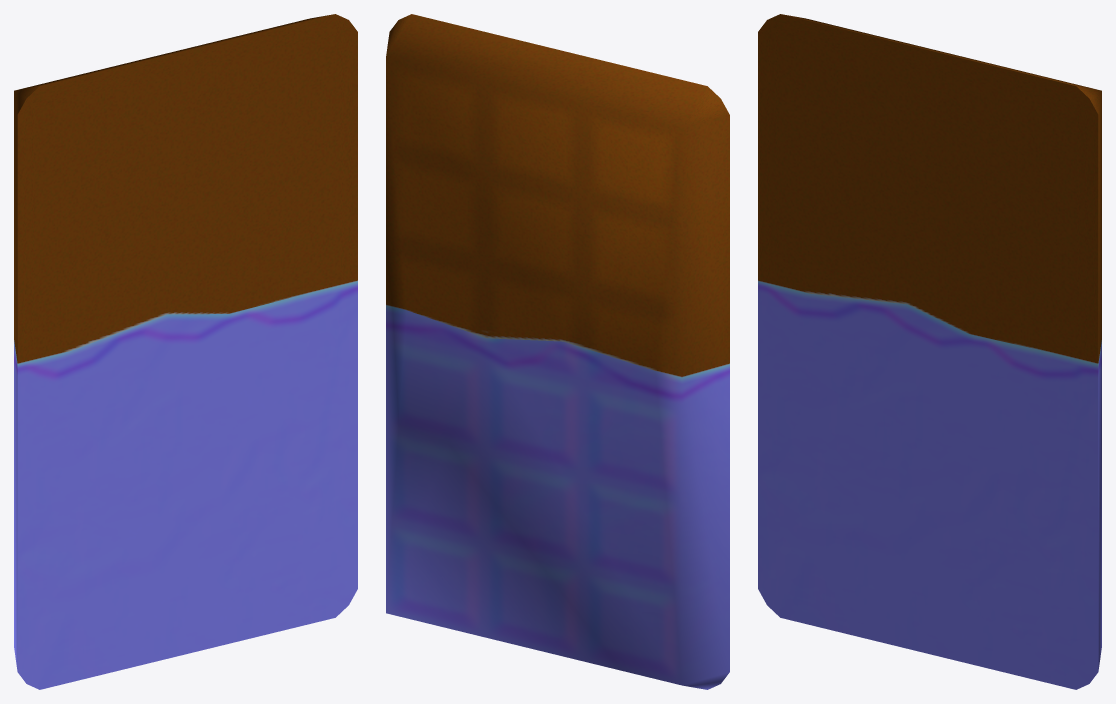
Rendered from Chocolate.fbx.
3 renders of one model, left to right at view 1: azimuth 30°, elevation 25°; view 2: azimuth 150°, elevation 25°; view 3: azimuth 330°, elevation 25°, orthographic.
Parts seen in each view (by area): view 1: Empty_Mesh; view 2: Empty_Mesh; view 3: Empty_Mesh.
Part boxes in pixels (left/top/right/bottom): Empty_Mesh: left=14, top=14, right=357, bottom=689; Empty_Mesh: left=386, top=14, right=729, bottom=689; Empty_Mesh: left=758, top=14, right=1101, bottom=689.
Size of the model in its own units: 0.23 by 0.39 by 0.03.
